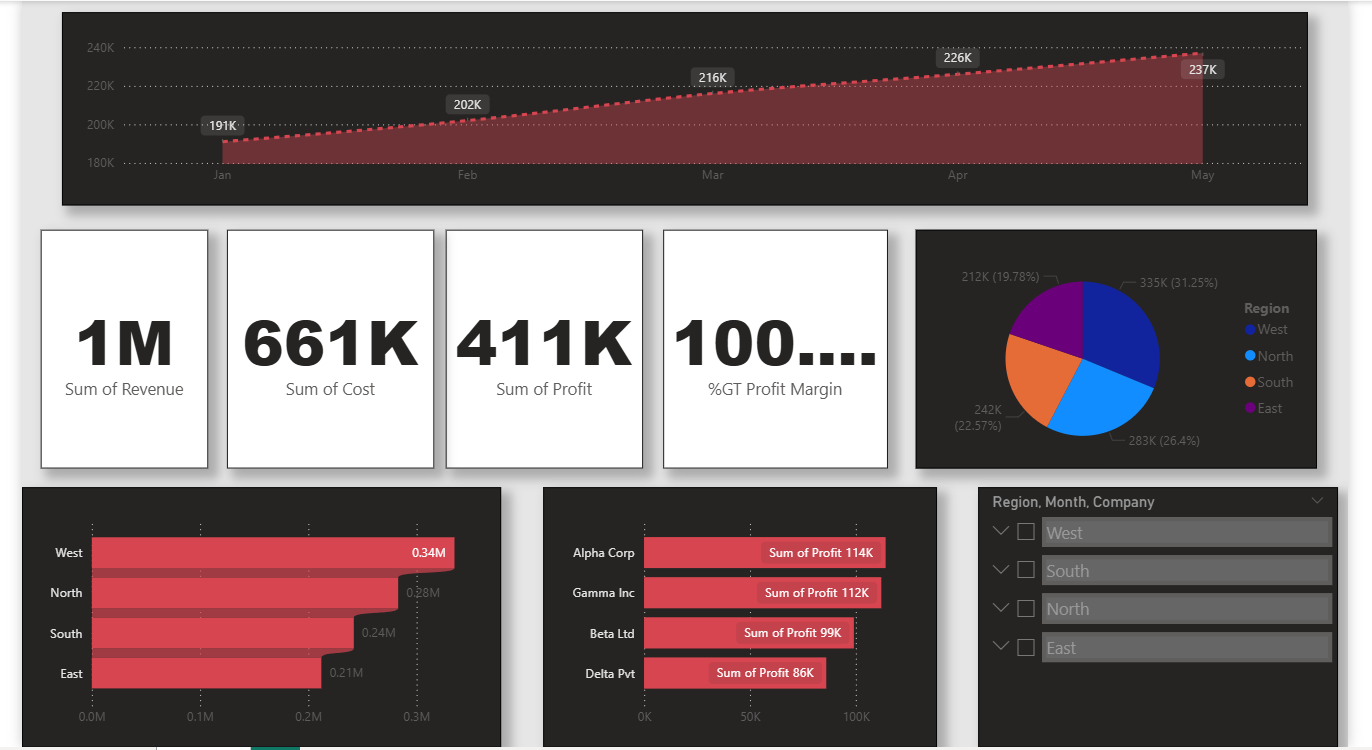

This screenshot's page, from the dashboard's own definition file:
{"tool":"powerbi","page":{"name":"Page 1","canvas":[1280,720],"ordinal":0},"visuals":[{"type":"barChart","fields":{"Y":["Sum(Table1.Revenue)"],"Category":["Table1.Region"]},"box":[0,469.3,462.4,251.1],"z":0},{"type":"lineChart","fields":{"Y":["Sum(Table1.Revenue)"],"Category":["Table1.Month"]},"box":[38.4,11,1202.1,186.6],"z":1000},{"type":"card","fields":{"Values":["Sum(Table1.Profit)"]},"box":[408.9,220.9,190.7,230.5],"z":2000},{"type":"card","fields":{"Values":["Sum(Table1.Revenue)"]},"box":[17.8,220.9,161.9,230.5],"z":3000},{"type":"card","fields":{"Values":["Sum(Table1.Cost)"]},"box":[197.6,220.9,200.3,230.5],"z":4000},{"type":"card","fields":{"Values":["Table1.Profit Margin","select"]},"box":[618.9,220.9,216.8,230.5],"z":5000},{"type":"pieChart","fields":{"Category":["Table1.Region"],"Y":["Sum(Table1.Revenue)"]},"box":[883.7,220.9,387,230.5],"z":5001},{"type":"clusteredBarChart","fields":{"Category":["Table1.Company"],"Y":["Sum(Table1.Profit)"]},"box":[503.6,469.3,380.1,251.1],"z":5002},{"type":"slicer","fields":{"Values":["Table1.Region","Table1.Month","Table1.Company"]},"box":[923.5,469.3,347.2,251.1],"z":5003}]}

Visuals, with their boxes in screenshot pixels (x1, y1, x2, y2), scaled from the page's 1280x720 canvas onto the 1372x750 screenshot:
barChart - Sum(Table1.Revenue) x Table1.Region: x1=0, y1=489, x2=496, y2=749
lineChart - Sum(Table1.Revenue) x Table1.Month: x1=41, y1=11, x2=1330, y2=206
card - Sum(Table1.Profit): x1=438, y1=230, x2=643, y2=470
card - Sum(Table1.Revenue): x1=19, y1=230, x2=193, y2=470
card - Sum(Table1.Cost): x1=212, y1=230, x2=426, y2=470
card - Table1.Profit Margin x select: x1=663, y1=230, x2=896, y2=470
pieChart - Table1.Region x Sum(Table1.Revenue): x1=947, y1=230, x2=1362, y2=470
clusteredBarChart - Table1.Company x Sum(Table1.Profit): x1=540, y1=489, x2=947, y2=749
slicer - Table1.Region x Table1.Month: x1=990, y1=489, x2=1362, y2=749
